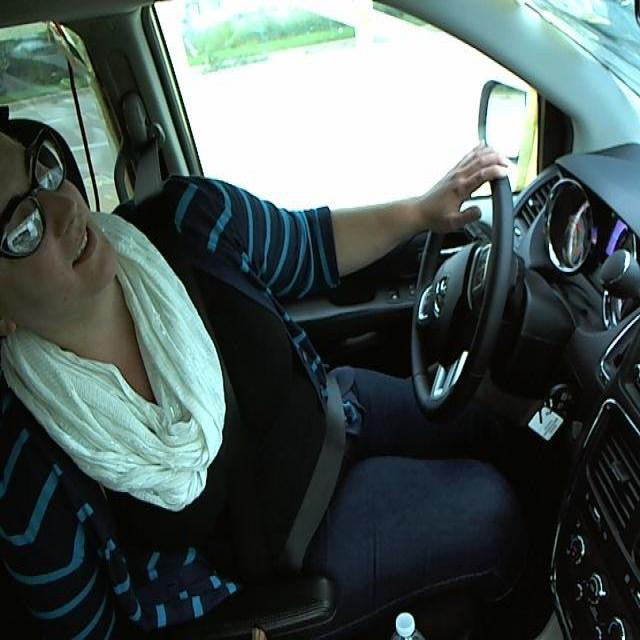seatbelt: (195, 357, 347, 575)
